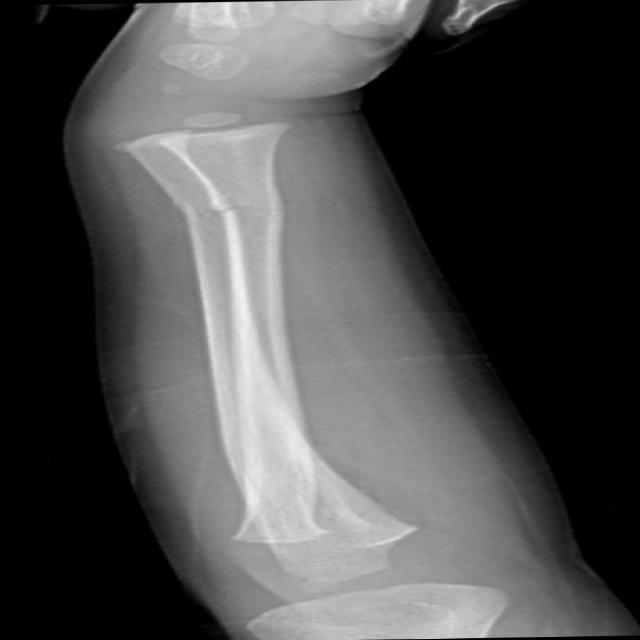Transverse Displaced: (159, 182, 291, 236)
